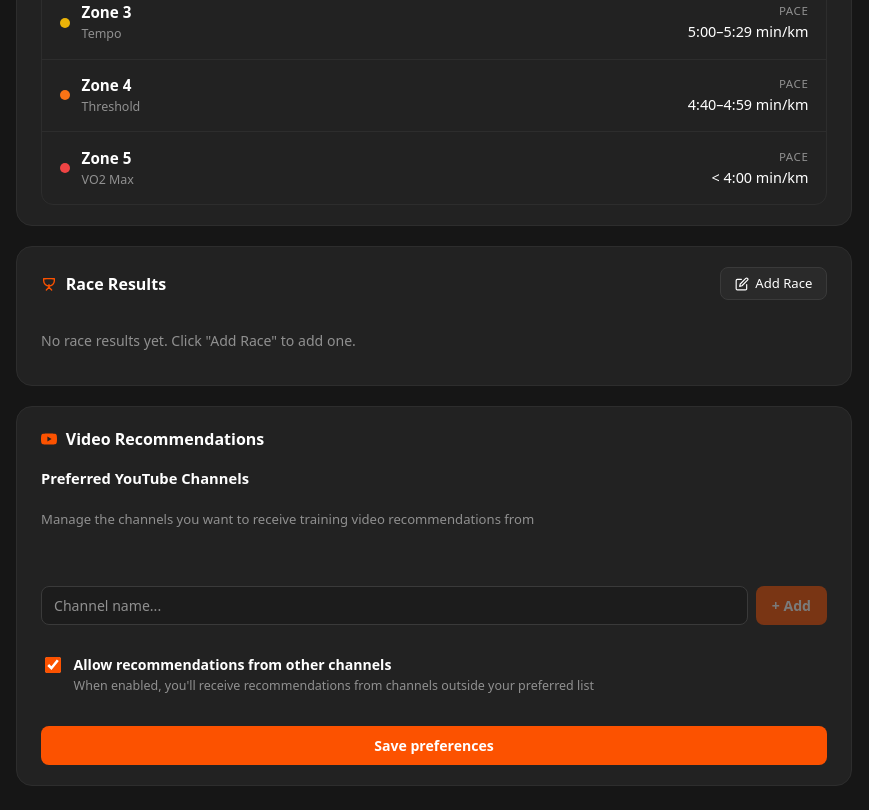
Scenario: ProfilePage › adds a channel and shows it in the list
(page scrolled)
Expected: the text "Video Recommendations" is shown, [66,428,264,452]
Type "Global Triathlon Network" into the field labelled "Channel name" at (394, 605), box [41,586,748,625]
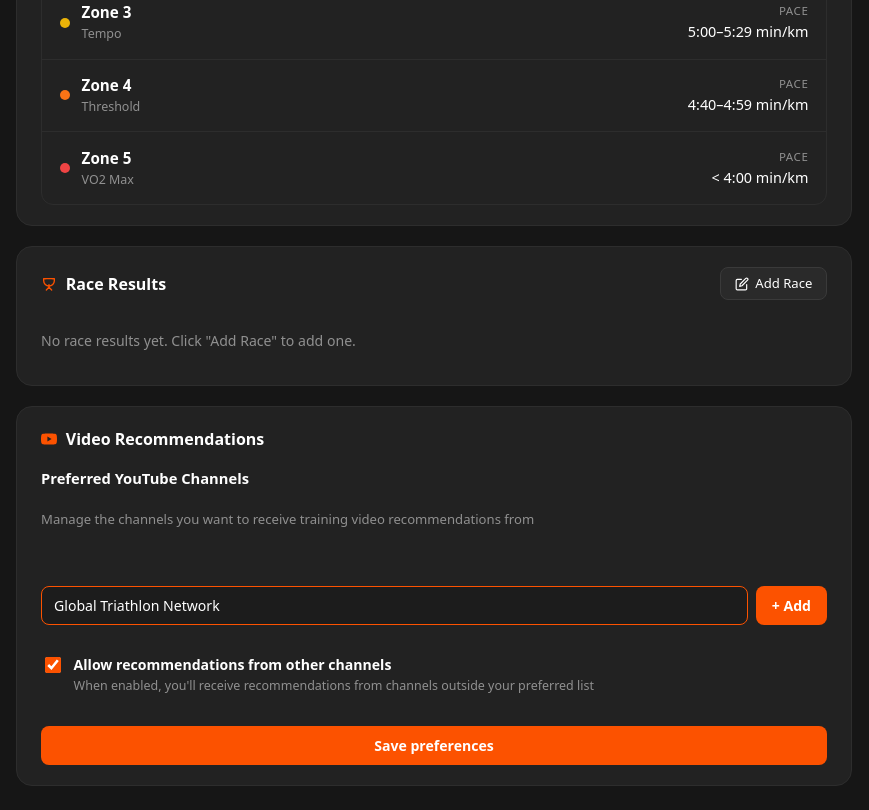
Click the button "+ Add" at (791, 605), box [756,586,827,625]
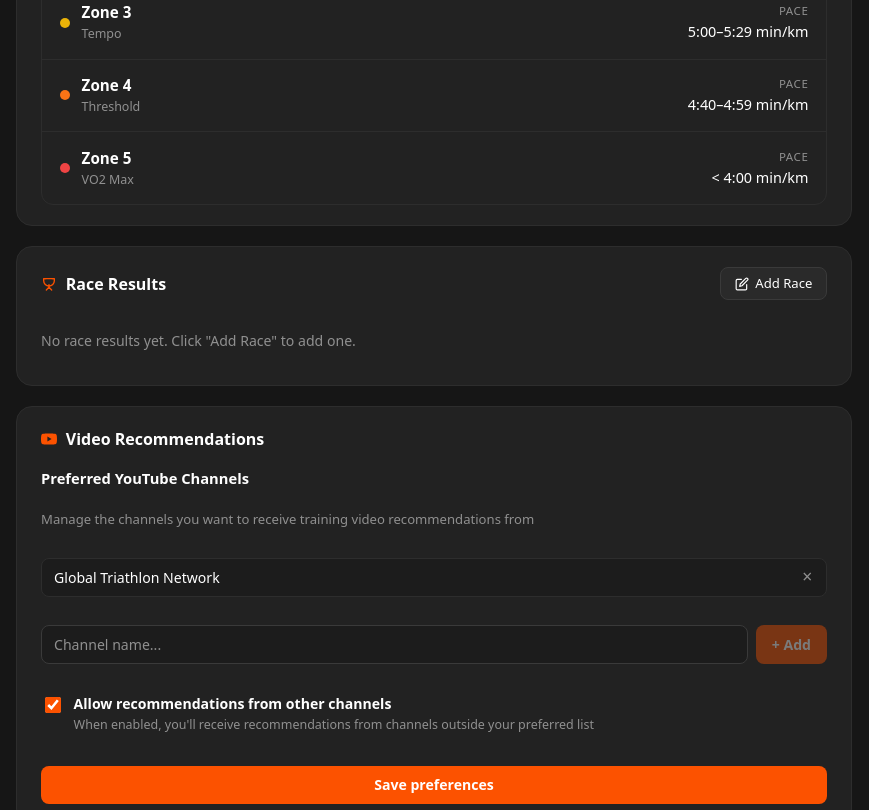
Result: the text "Global Triathlon Network" is shown at [54,566,220,588]
Result: the field labelled "Channel name" is empty at [41,625,748,664]
